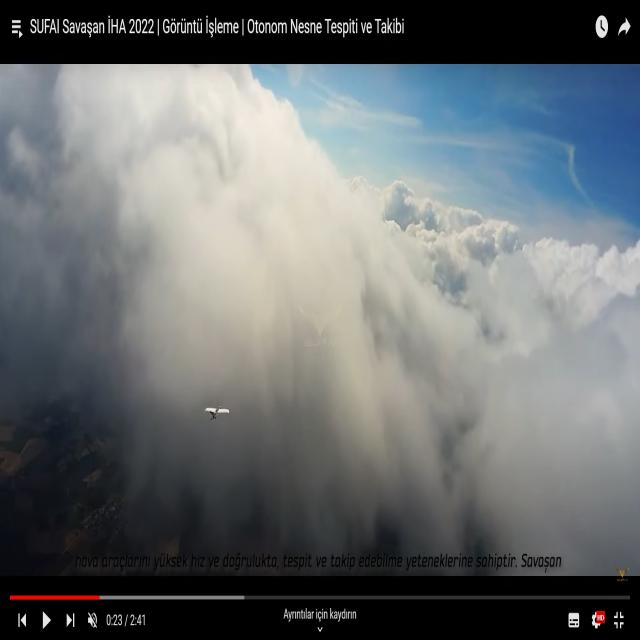iha: (202, 402, 232, 423)
